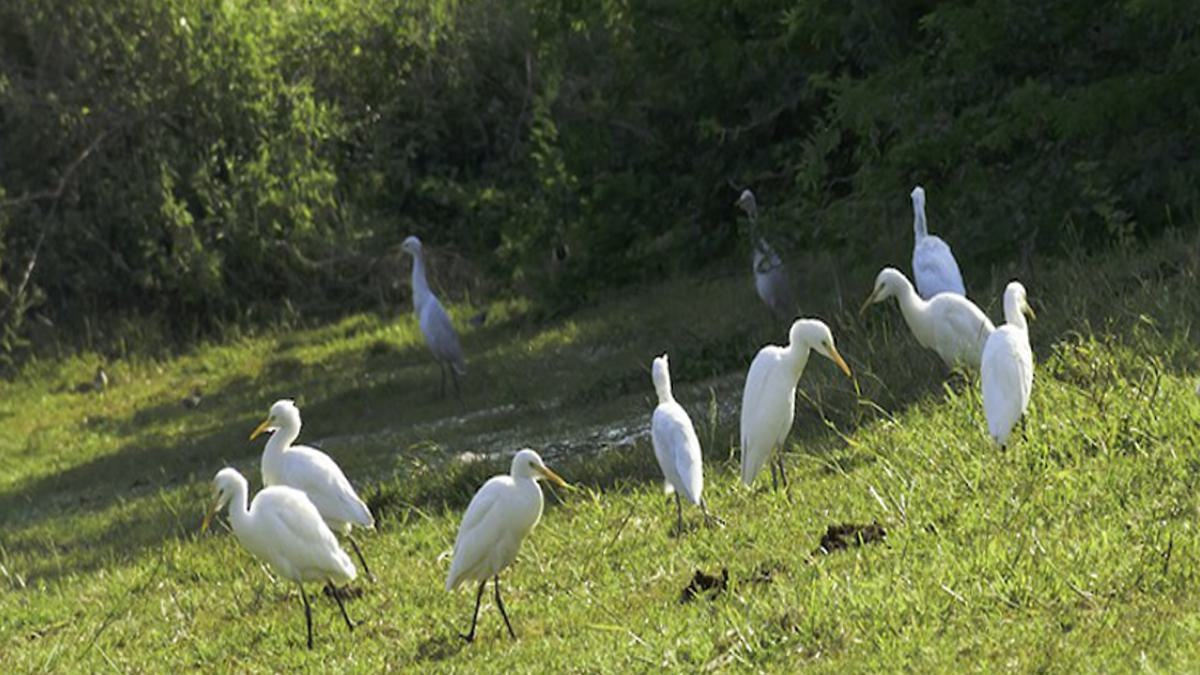egret: (416, 449, 588, 640), (208, 463, 352, 645), (742, 320, 858, 487), (250, 394, 379, 532), (385, 233, 481, 402), (859, 260, 1001, 370), (659, 338, 728, 534), (978, 277, 1052, 441), (900, 187, 973, 313)
